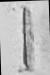M29: (3, 0, 47, 74)
